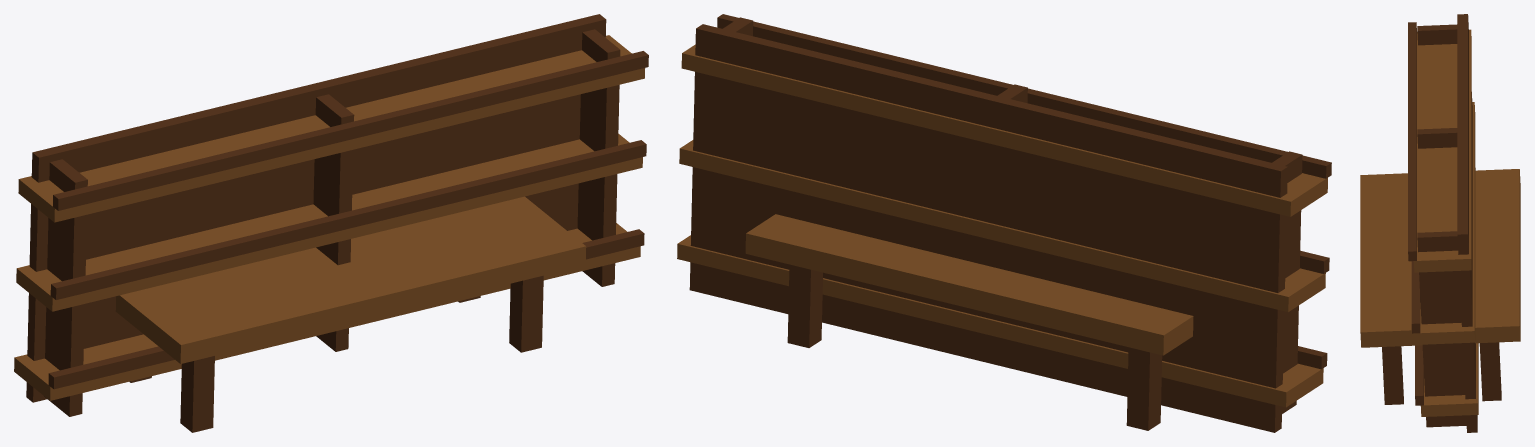
The model's file is shelf_and_table_!.fbx.
The picture shows the model from 3 angles, left to right: view 1: azimuth 30°, elevation 25°; view 2: azimuth 150°, elevation 25°; view 3: azimuth 270°, elevation 25°; orthographic projection. The views are drawn at different scales.
Visible parts, largest first — view 1: SCN_04_Shelf_Table_CleanMesh; view 2: SCN_04_Shelf_Table_CleanMesh; view 3: SCN_04_Shelf_Table_CleanMesh.
Boxes of the visible parts, x1,y1,x2,y2 form: SCN_04_Shelf_Table_CleanMesh: (14,14,648,432); SCN_04_Shelf_Table_CleanMesh: (677,14,1331,432); SCN_04_Shelf_Table_CleanMesh: (1360,14,1520,432).
Bounding box in the file's own units: 5.1 × 2.22 × 1.51.
